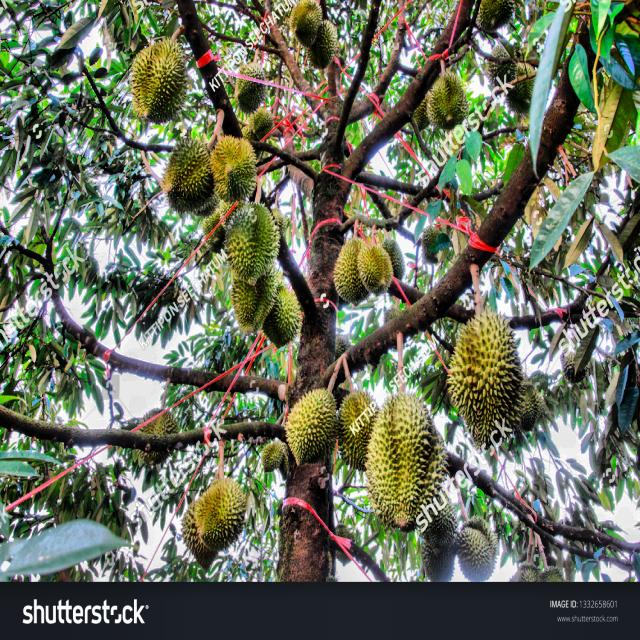arvore: (278, 74, 350, 576)
